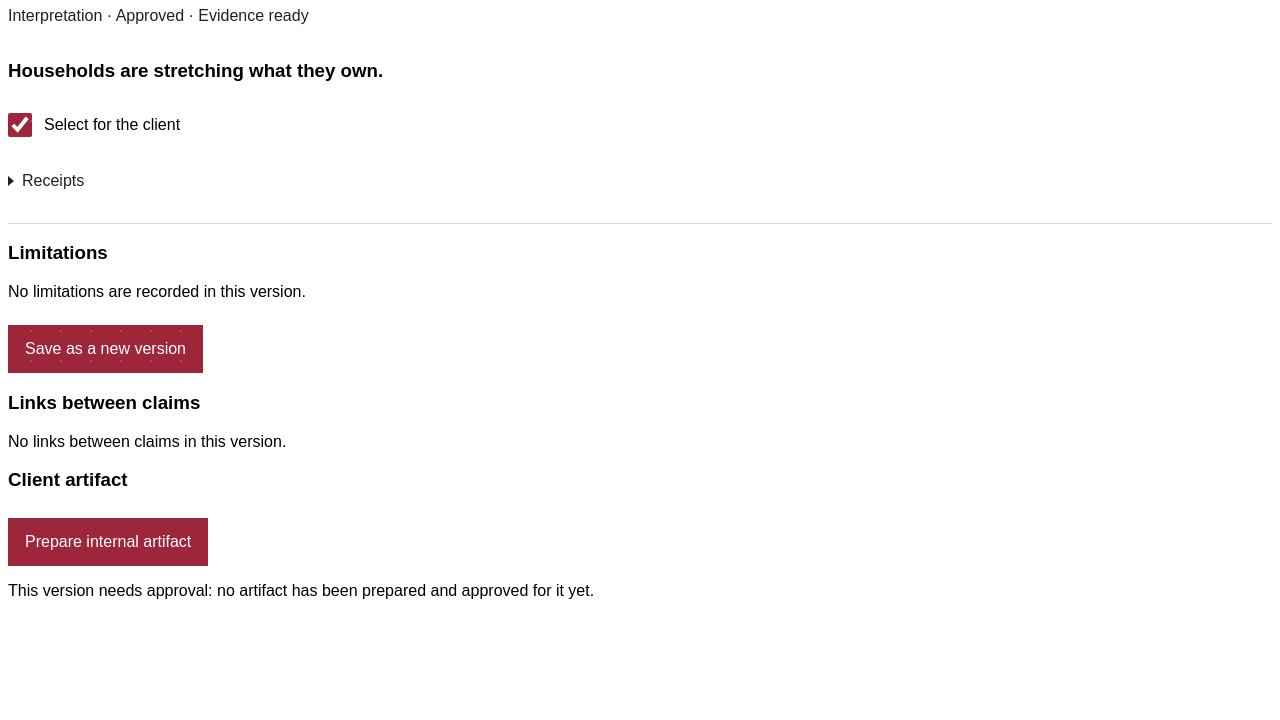
review fixes after the first review › without the approved PDF the page points to the Client Read
(page scrolled)
Click the button "Prepare internal artifact" at (108, 542), box [8,518,208,566]
(page scrolled)
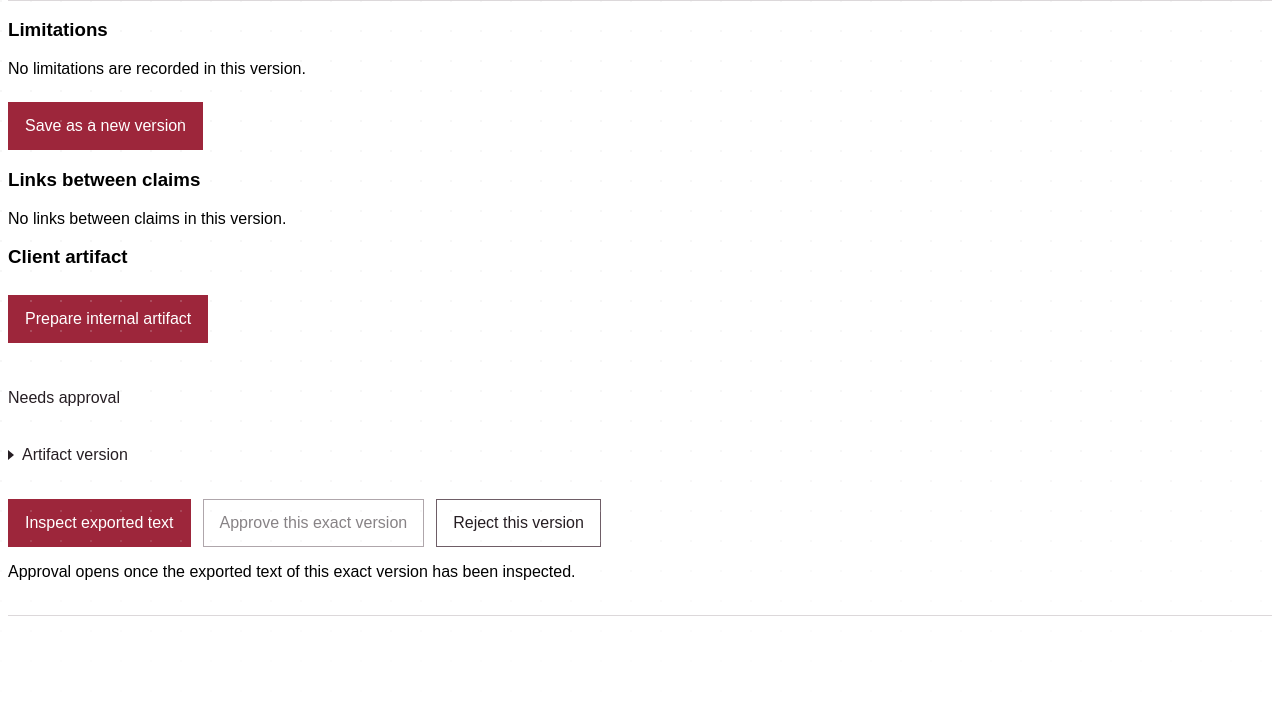
Click the button "Inspect exported text" at (99, 523), box [8,499,190,547]
(page scrolled)
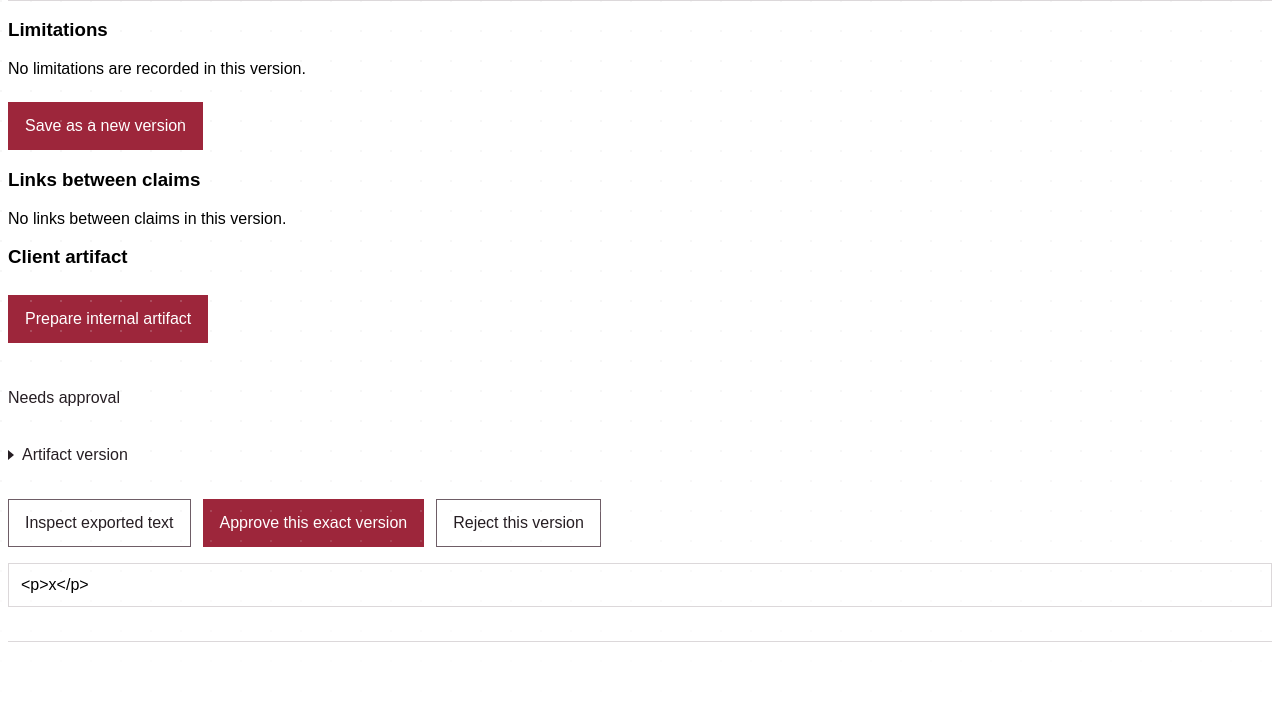
Click the button "Approve this exact version" at (313, 523), box [202,499,424,547]
(page scrolled)
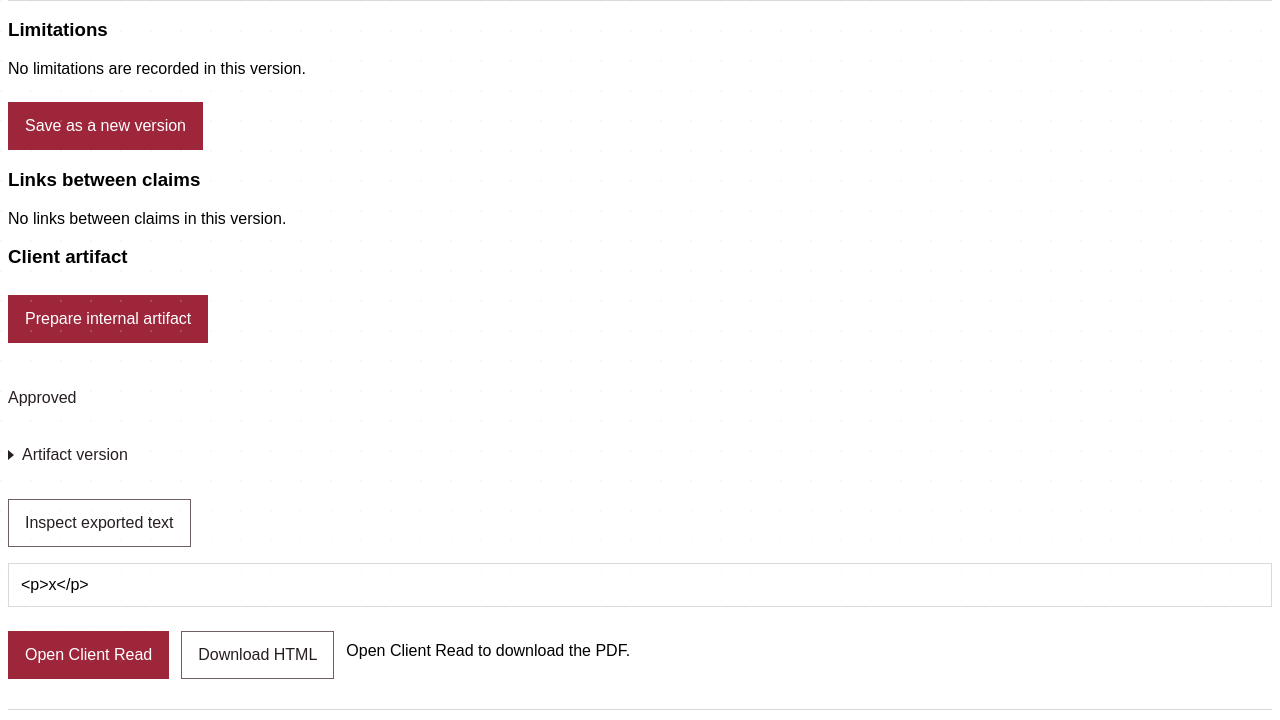
Expected: the button "Open Client Read" is shown, [8,631,169,679]
Expected: the text "Open Client Read to download the PDF." is shown, [346,642,630,660]
